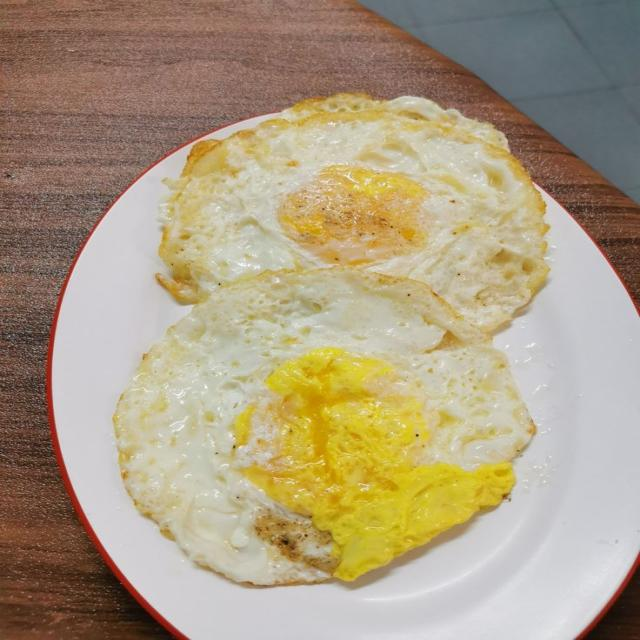fryed egg: (114, 268, 533, 584), (160, 96, 547, 330)
